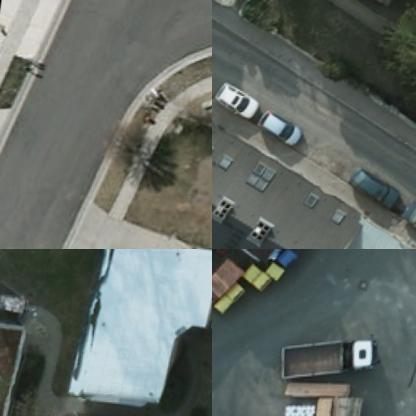car: (352, 164, 412, 209), (264, 106, 317, 144), (219, 78, 270, 116)
